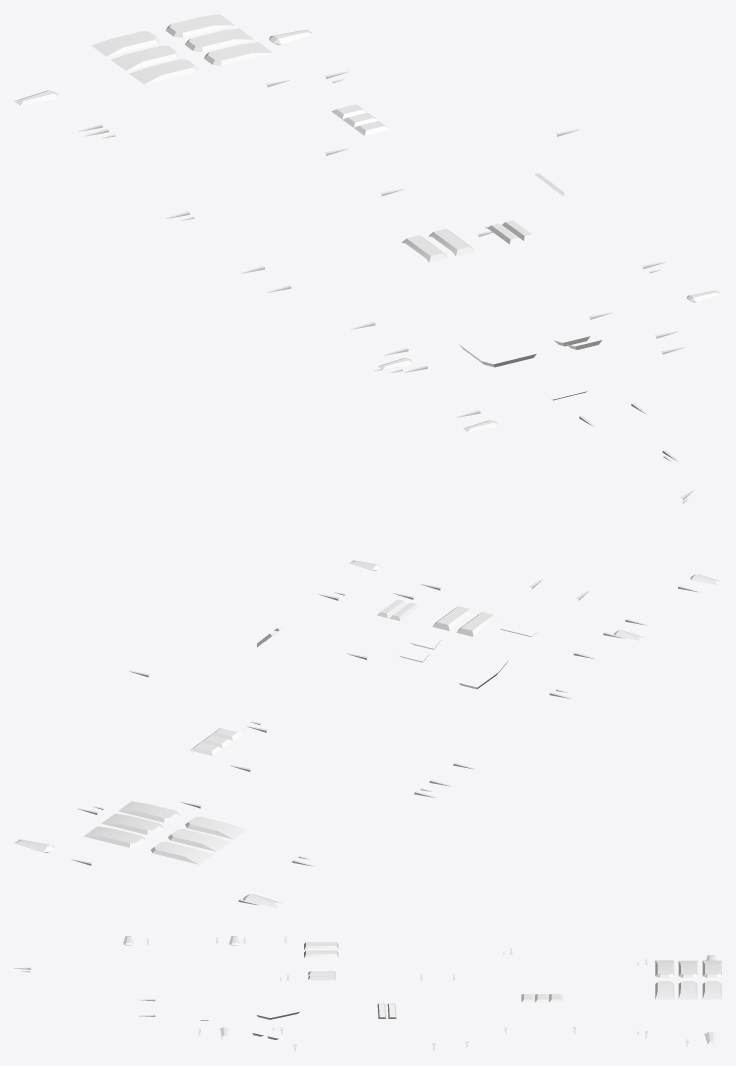
Rendered from hgn_flagship_carrier_02.glb.
The picture shows the model from 3 angles, top to bottom: view 1: azimuth 30°, elevation 25°; view 2: azimuth 150°, elevation 25°; view 3: azimuth 270°, elevation 25°; orthographic projection. The views are drawn at different scales.
Visible parts, largest first — view 1: hgn_flagship_carrier_02_LOD0; view 2: hgn_flagship_carrier_02_LOD0; view 3: hgn_flagship_carrier_02_LOD0.
Boxes of the visible parts, x1=… form: hgn_flagship_carrier_02_LOD0: x1=14, y1=14, x2=721, y2=461; hgn_flagship_carrier_02_LOD0: x1=14, y1=490, x2=721, y2=907; hgn_flagship_carrier_02_LOD0: x1=14, y1=936, x2=721, y2=1051.
Size of what is drawn, in the model's own units: 5.66 by 1.35 by 14.43.
1 material, 1 textured.
